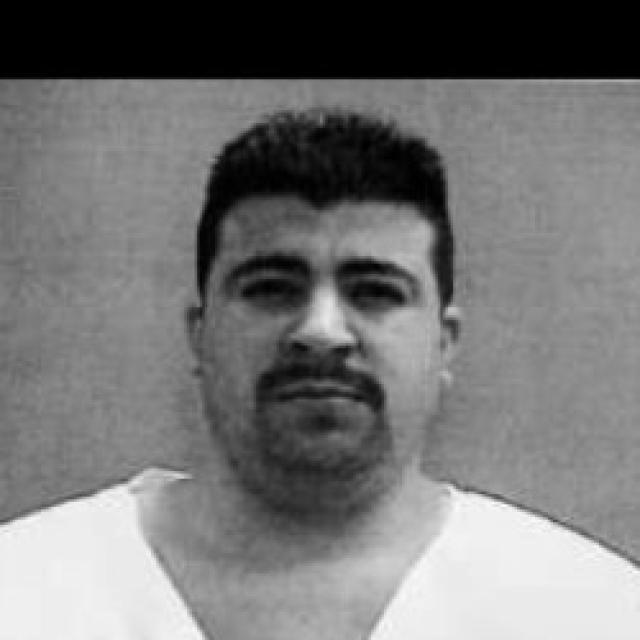real: (200, 150, 474, 500), (237, 262, 413, 319)
